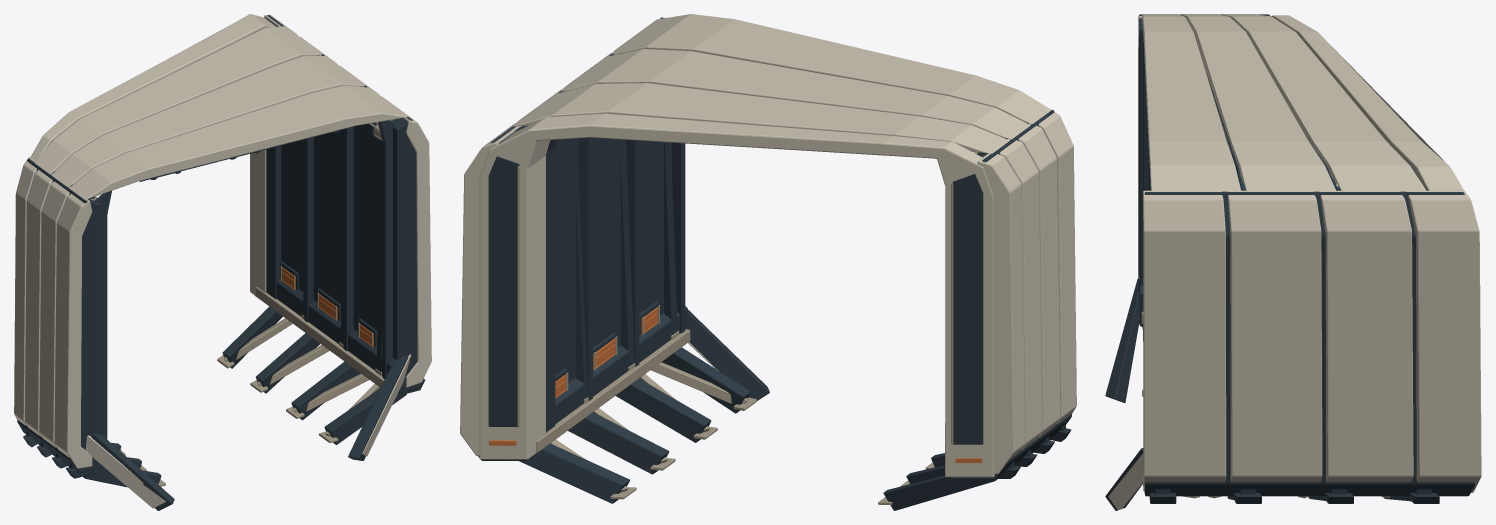
The model's file is receiver-crown.glb.
3 views of the same model, side by side, from view 1: azimuth 30°, elevation 25°; view 2: azimuth 150°, elevation 25°; view 3: azimuth 270°, elevation 25° (orthographic). The views are drawn at different scales.
Parts seen in each view (by area): view 1: nomad_receiver_crown__warm_ivory_armour, nomad_receiver_crown__navy_structural_steel, nomad_receiver_crown__rubbed_warm_alloy, nomad_receiver_crown__oxide_freight_enamel; view 2: nomad_receiver_crown__warm_ivory_armour, nomad_receiver_crown__navy_structural_steel, nomad_receiver_crown__rubbed_warm_alloy, nomad_receiver_crown__oxide_freight_enamel; view 3: nomad_receiver_crown__warm_ivory_armour, nomad_receiver_crown__navy_structural_steel.
Boxes of the visible parts, x1=… form: nomad_receiver_crown__warm_ivory_armour: x1=14, y1=14, x2=431, y2=508; nomad_receiver_crown__navy_structural_steel: x1=17, y1=14, x2=425, y2=510; nomad_receiver_crown__rubbed_warm_alloy: x1=90, y1=119, x2=393, y2=486; nomad_receiver_crown__oxide_freight_enamel: x1=282, y1=267, x2=373, y2=346; nomad_receiver_crown__warm_ivory_armour: x1=460, y1=14, x2=1076, y2=477; nomad_receiver_crown__navy_structural_steel: x1=478, y1=17, x2=1071, y2=510; nomad_receiver_crown__rubbed_warm_alloy: x1=517, y1=152, x2=978, y2=504; nomad_receiver_crown__oxide_freight_enamel: x1=489, y1=307, x2=981, y2=462; nomad_receiver_crown__warm_ivory_armour: x1=1108, y1=14, x2=1481, y2=509; nomad_receiver_crown__navy_structural_steel: x1=1105, y1=14, x2=1475, y2=510.
Size of the model in its own units: 284 by 245 by 227.
